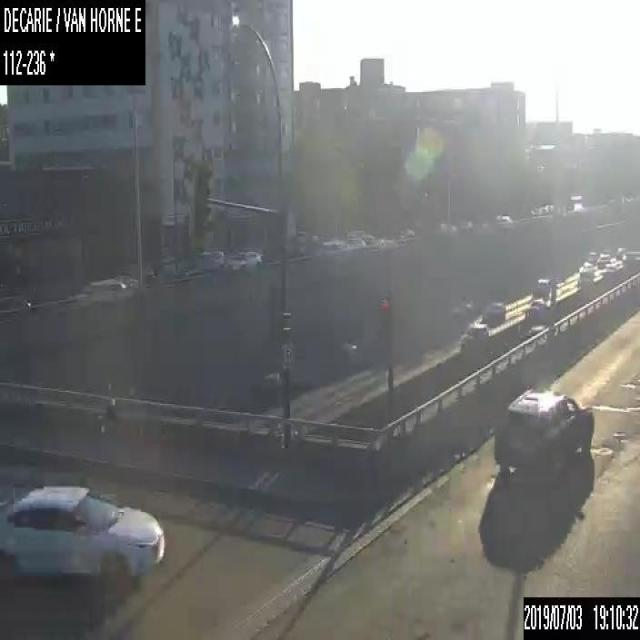vehicle: (0, 482, 165, 586), (492, 386, 594, 482), (0, 293, 30, 320), (225, 247, 259, 270), (459, 323, 487, 348), (481, 300, 506, 324), (534, 276, 556, 302), (575, 266, 602, 286), (84, 276, 124, 289), (526, 298, 544, 316), (603, 257, 622, 271), (596, 251, 610, 267), (626, 247, 639, 261), (584, 250, 596, 265), (496, 213, 511, 224), (614, 246, 624, 258)
